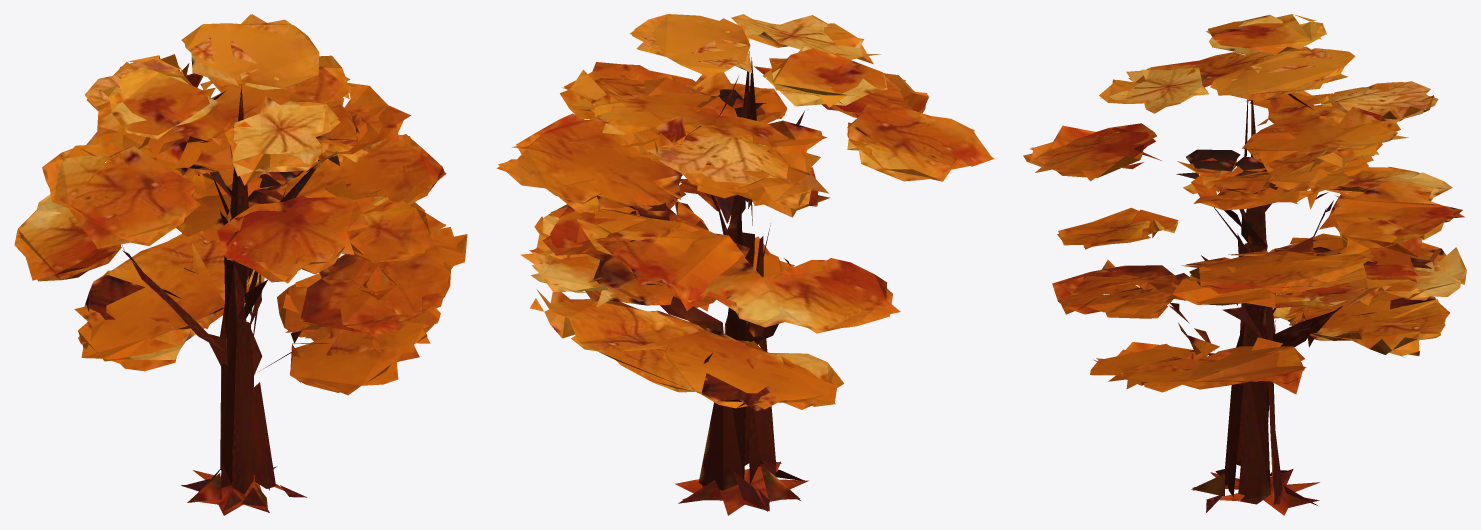
Rendered from tree_autumn.glb.
The picture shows the model from 3 angles, left to right: view 1: azimuth 30°, elevation 25°; view 2: azimuth 150°, elevation 25°; view 3: azimuth 270°, elevation 25°; orthographic projection. The views are drawn at different scales.
Visible parts, largest first — view 1: obj.obj; view 2: obj.obj; view 3: obj.obj.
Part boxes in pixels (bbox=[...]): obj.obj: bbox=[14, 14, 467, 515]; obj.obj: bbox=[496, 14, 994, 515]; obj.obj: bbox=[1023, 14, 1466, 515].
Bounding box in the file's own units: 7.35 × 7.94 × 7.18.
Materials: 1 (1 with a texture image).
